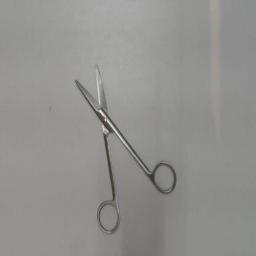Curved Mayo Scissors: (70, 56, 182, 238)
